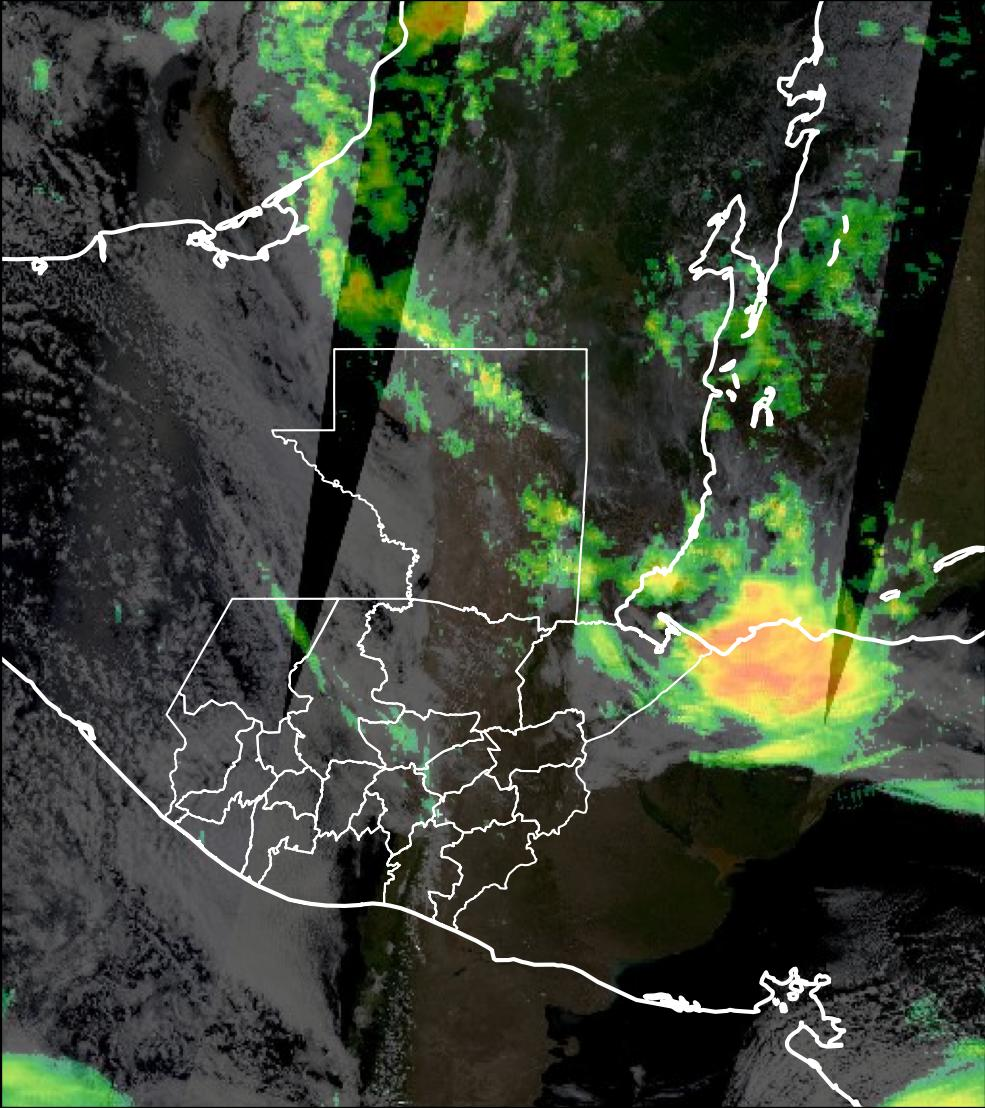precipitacion: (673, 583, 868, 727)
